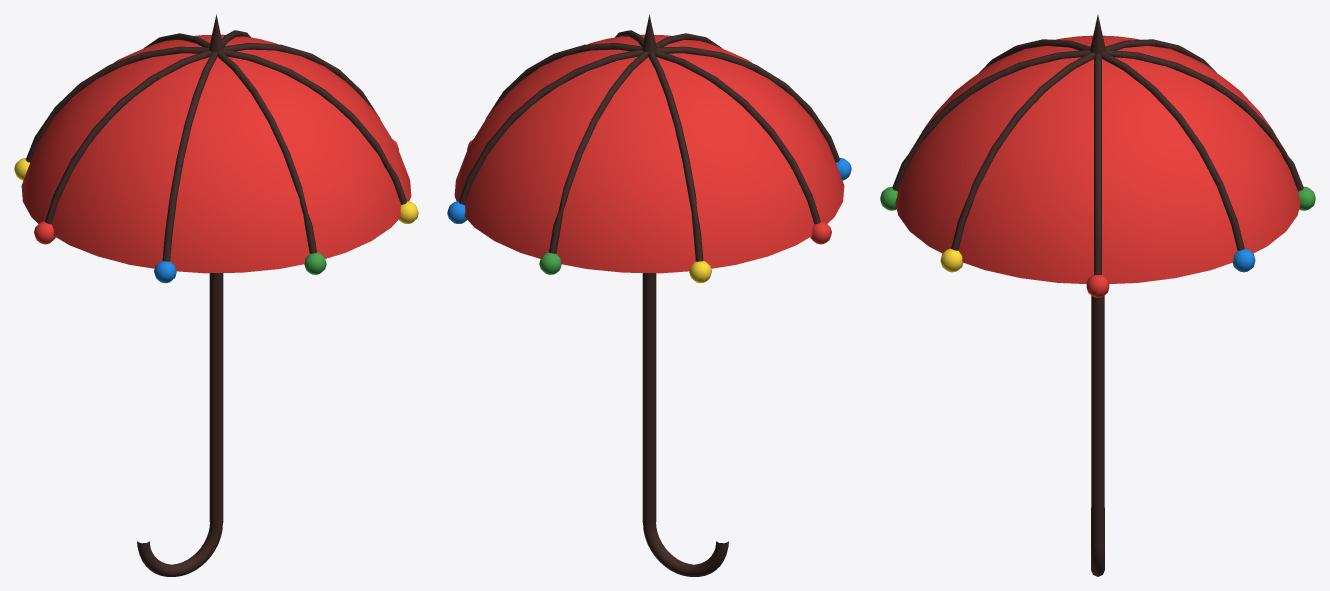
The model's file is umbrella.glb.
3 views of the same model, side by side, from view 1: azimuth 30°, elevation 25°; view 2: azimuth 150°, elevation 25°; view 3: azimuth 270°, elevation 25° (orthographic). The views are drawn at different scales.
Visible parts, largest first — view 1: umbrella; view 2: umbrella; view 3: umbrella.
Part boxes in pixels (x1,y1,x2,y2): umbrella: (14, 14, 418, 576); umbrella: (447, 14, 851, 576); umbrella: (880, 15, 1315, 576).
Size of the model in its own units: 2.18 by 3.18 by 2.17.
